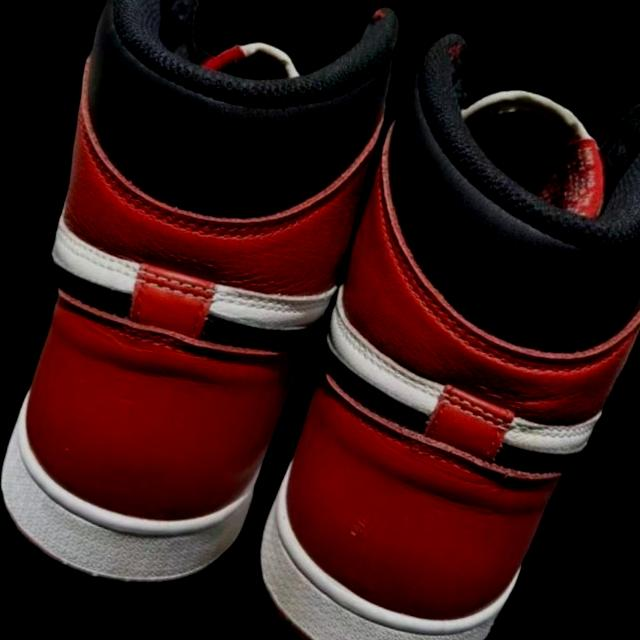nike_original_jordan: (206, 0, 640, 640), (0, 0, 430, 640)
